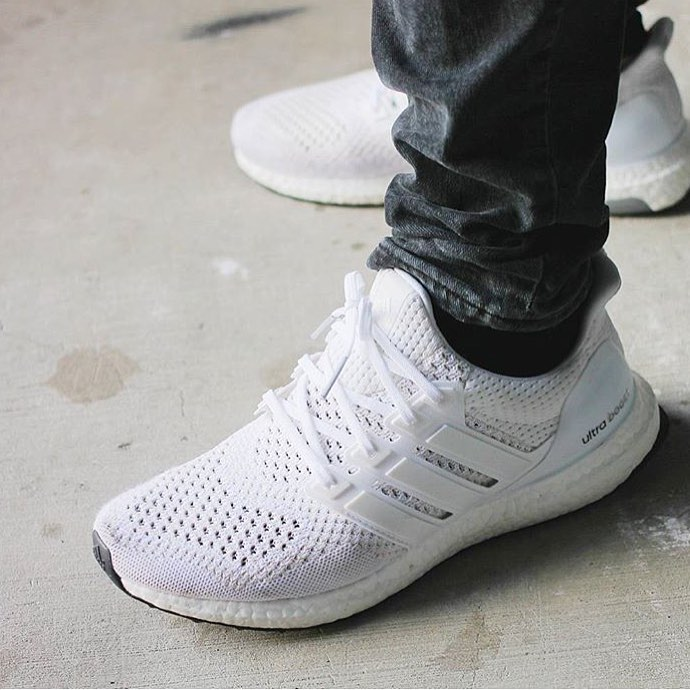sneaker: (47, 197, 687, 667), (203, 1, 689, 234)
